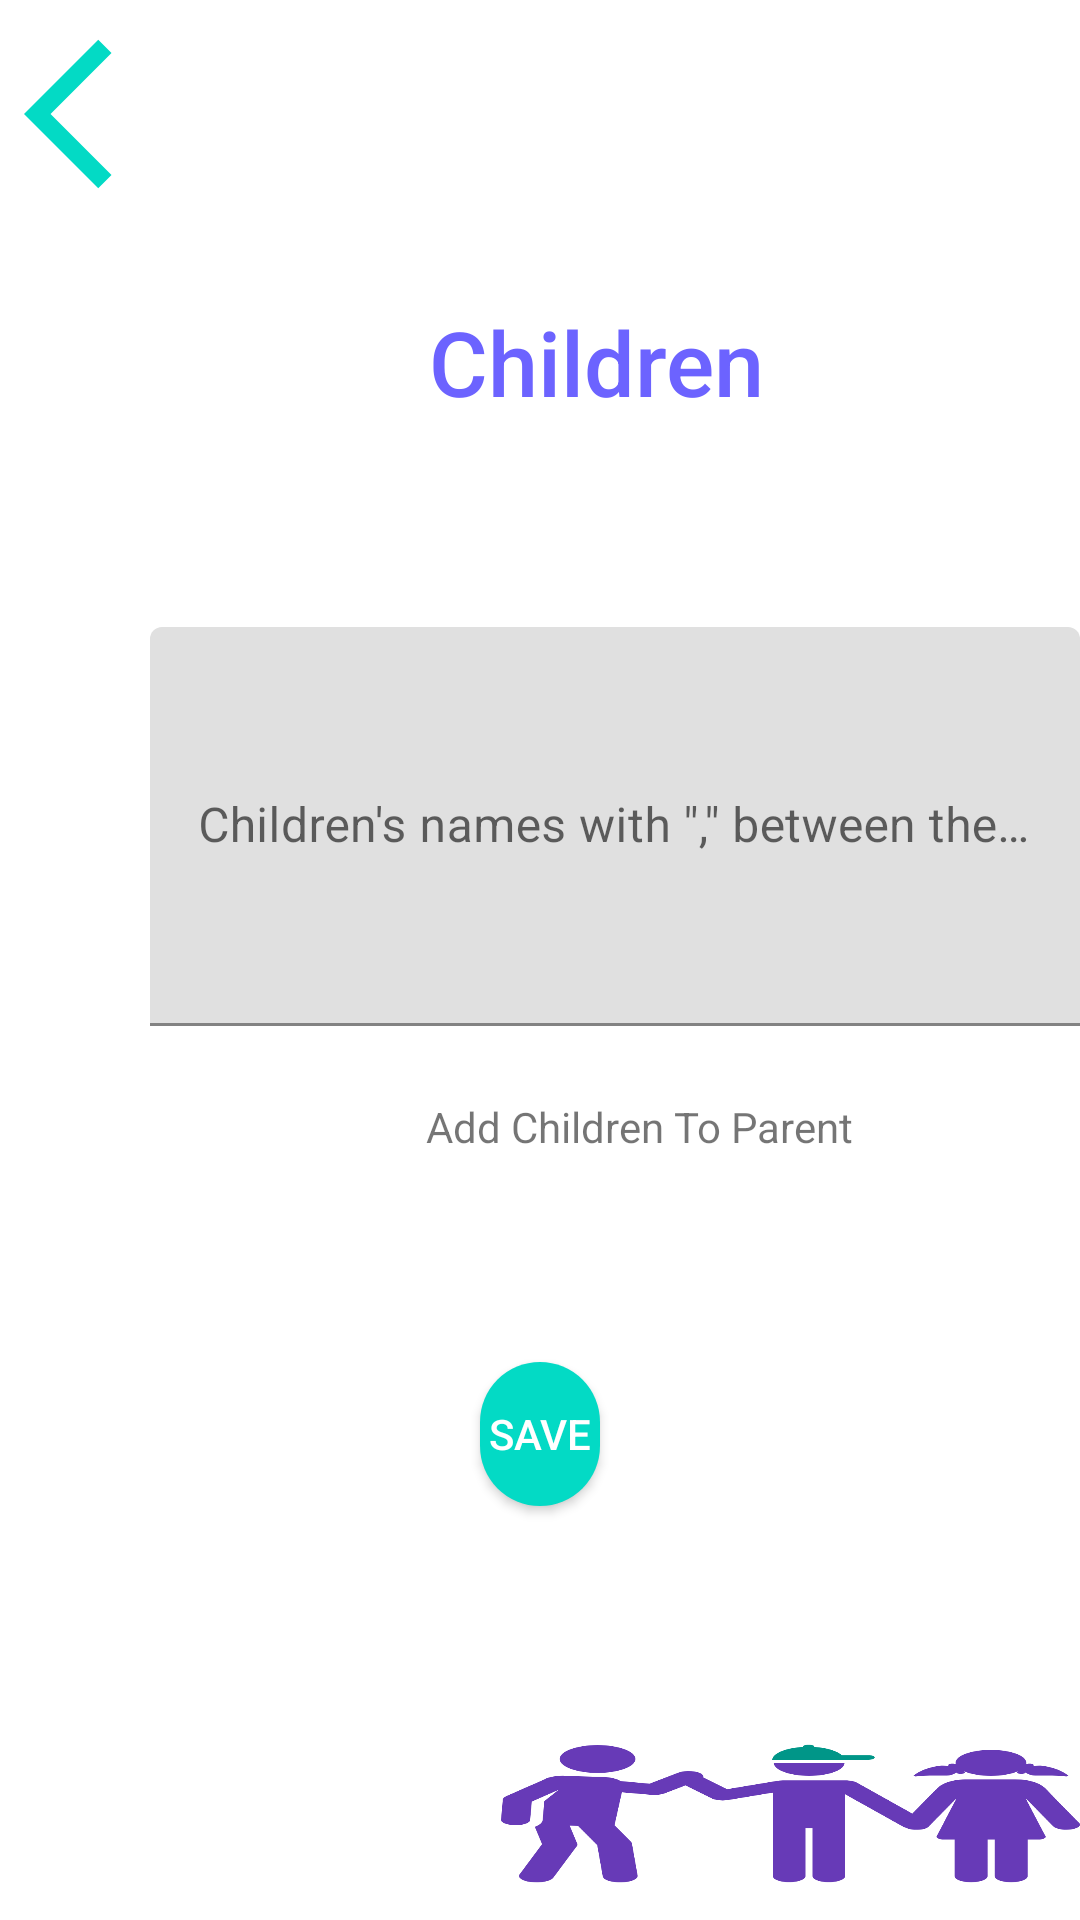

Icon bounding boxes for this 1080 x 1920 phone screenshot, format (x1, y1, x2, y2):
back: (24, 40, 112, 188)
